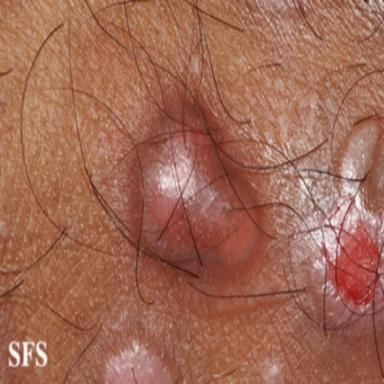Epidermolysis-Bullosa-Pruriginosa: (130, 86, 269, 291), (322, 117, 384, 314), (105, 342, 173, 384)
